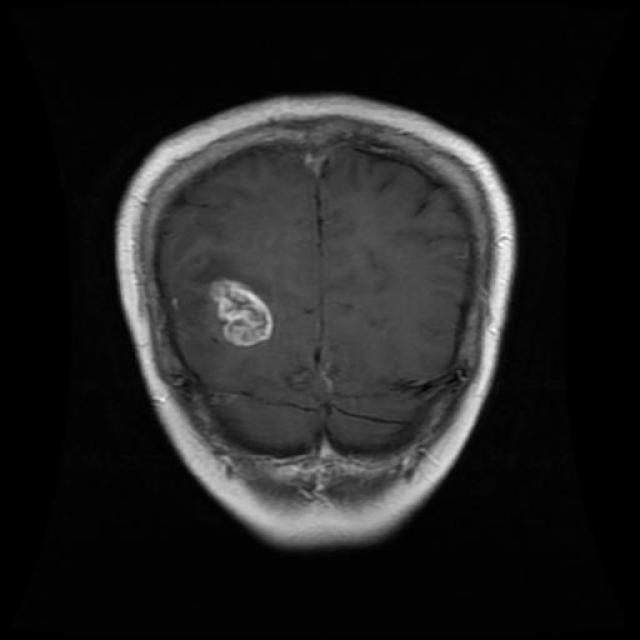glioma: (190, 264, 284, 368)
